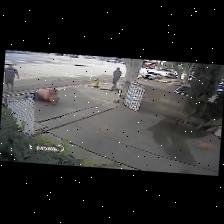person: (3, 65, 18, 90), (34, 89, 57, 105), (112, 68, 120, 88)
